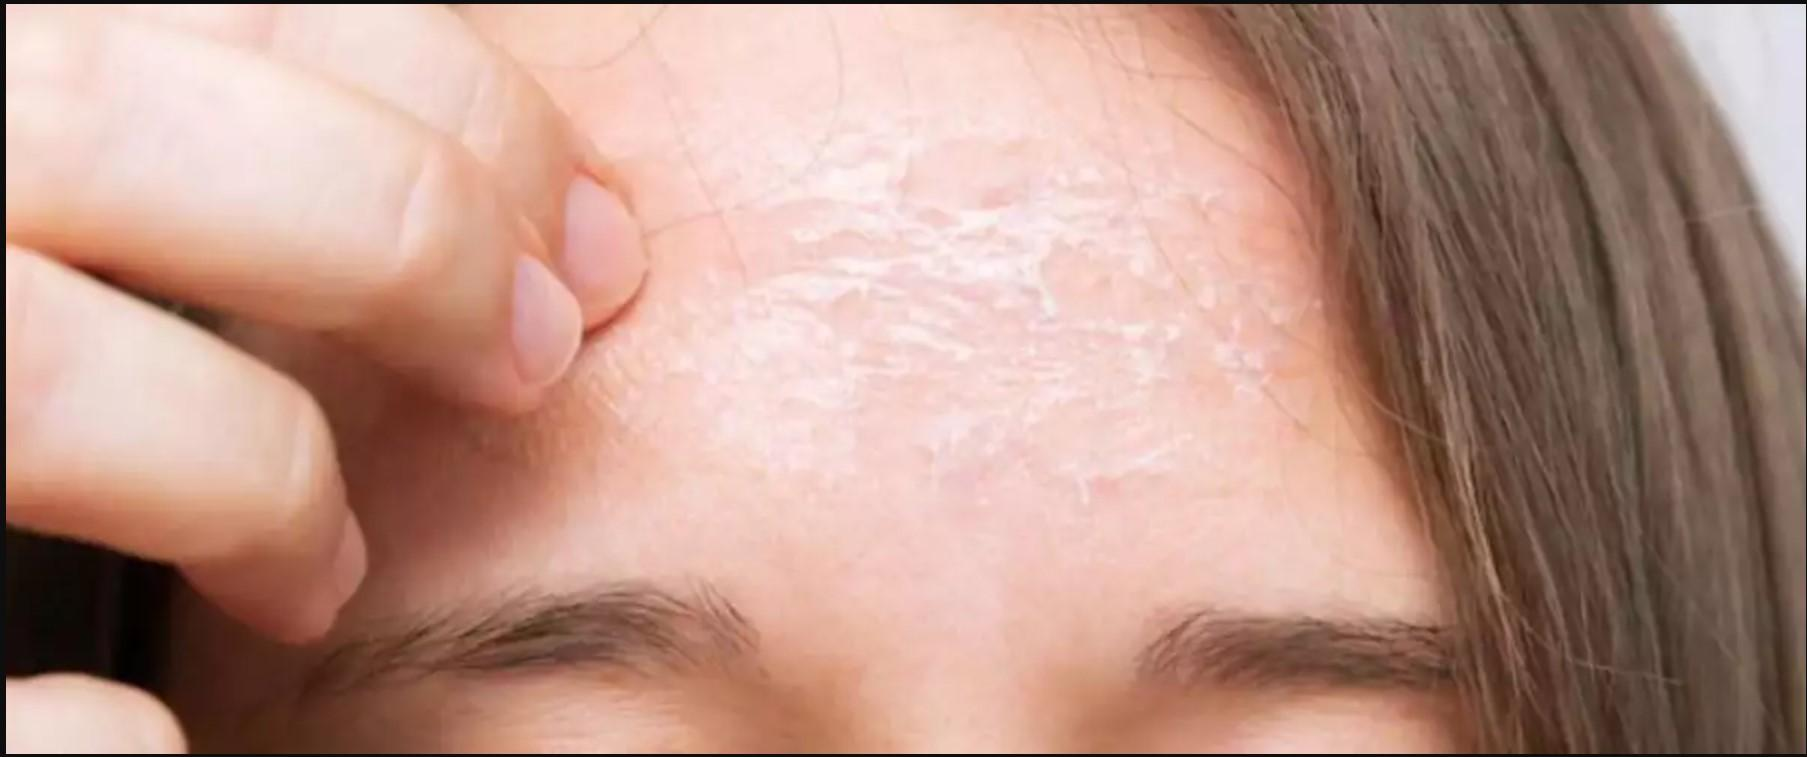Dry-Skin: (880, 171, 1065, 277), (736, 166, 869, 310), (1205, 288, 1351, 398), (970, 256, 1105, 371), (1088, 173, 1210, 282)
